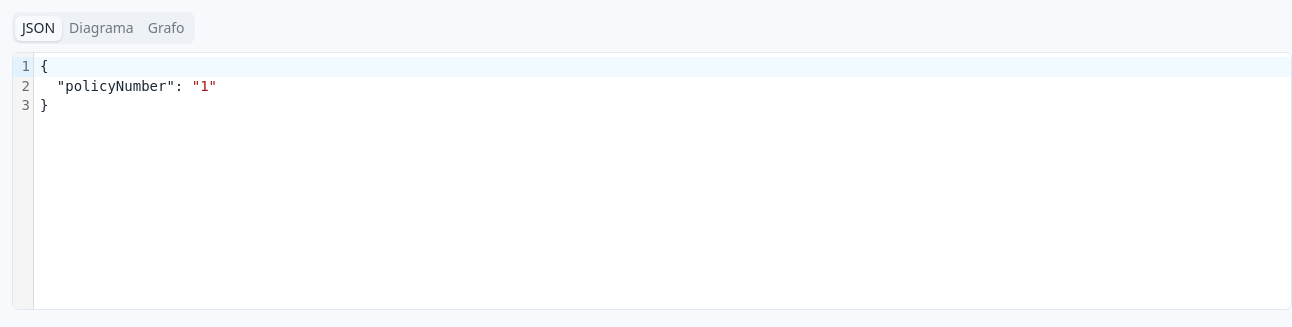
Test: JsonResultViewer › renders extra tabs and switches to their content
Click the tab "Grafo" at (166, 28), box [141, 16, 192, 40]
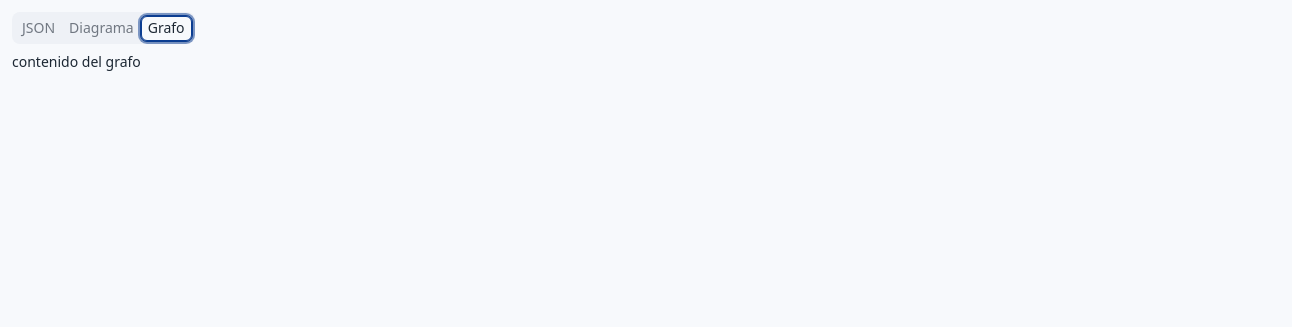
expect the text "contenido del grafo" is shown: met, box [12, 52, 141, 71]
